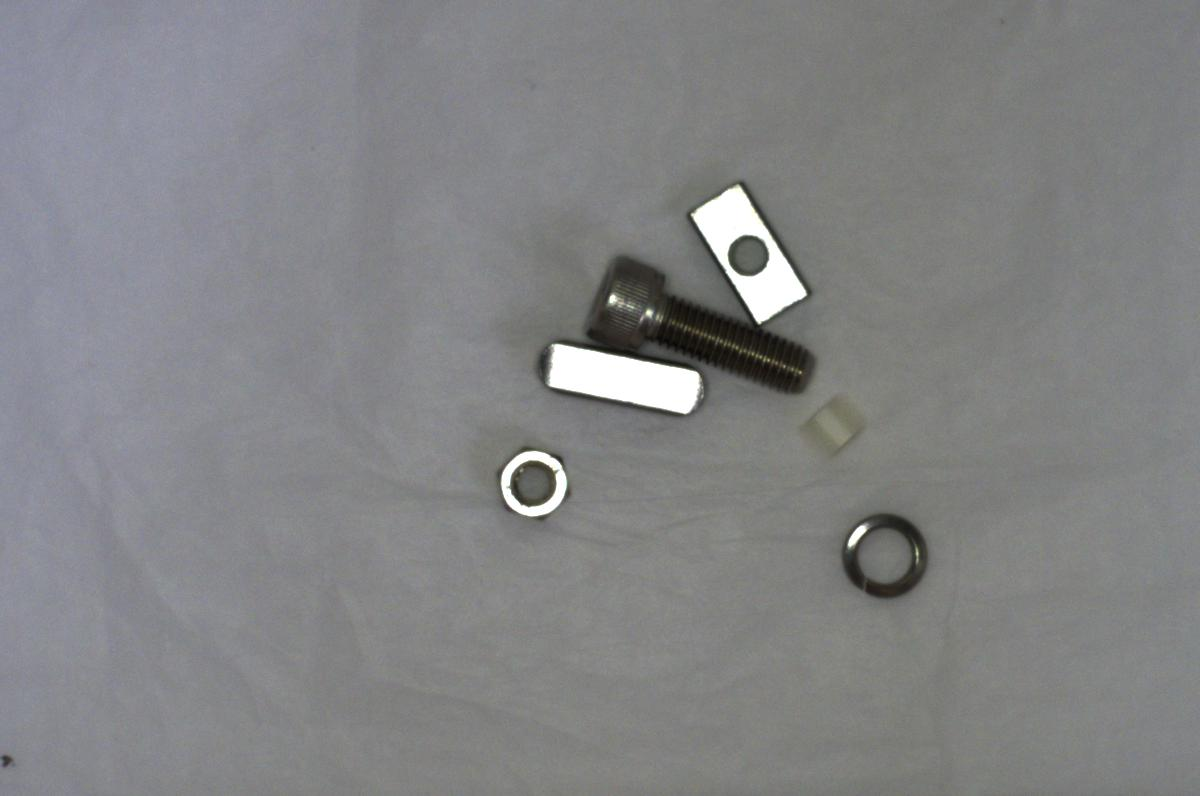Hexagon nut: (492, 442, 572, 526)
Hexagon screw: (570, 252, 819, 390)
Keybar: (530, 335, 702, 420)
Plastic cushion pillar: (795, 387, 868, 456)
Rectangular nut: (679, 179, 817, 327)
Spring washer: (825, 507, 937, 602)
